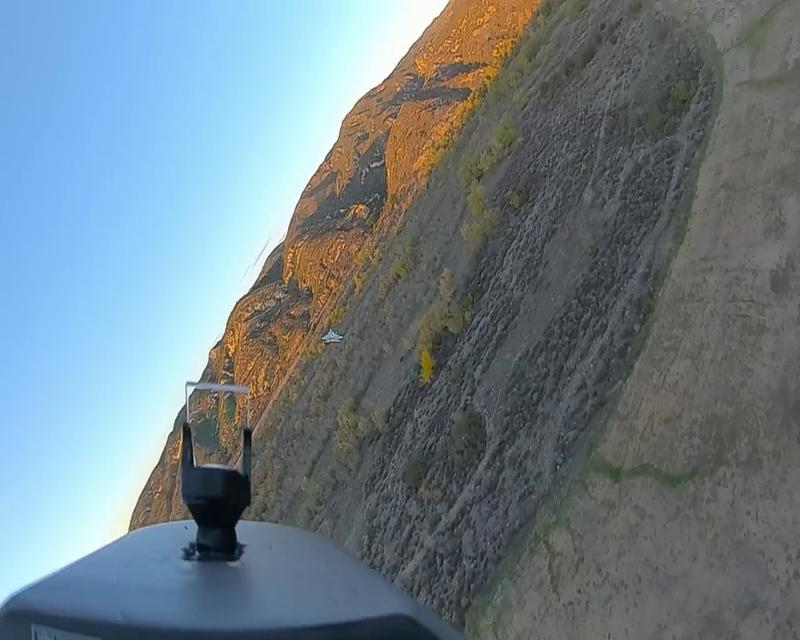UAV: (321, 328, 343, 345)
